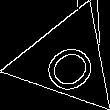O_NE: (31, 27, 102, 94)
